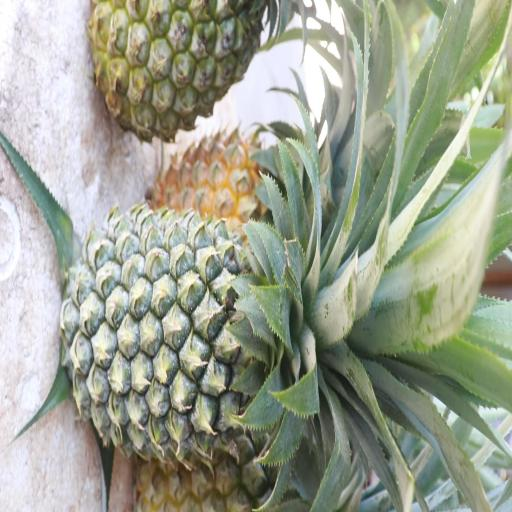------------------------------: (88, 0, 266, 137)
